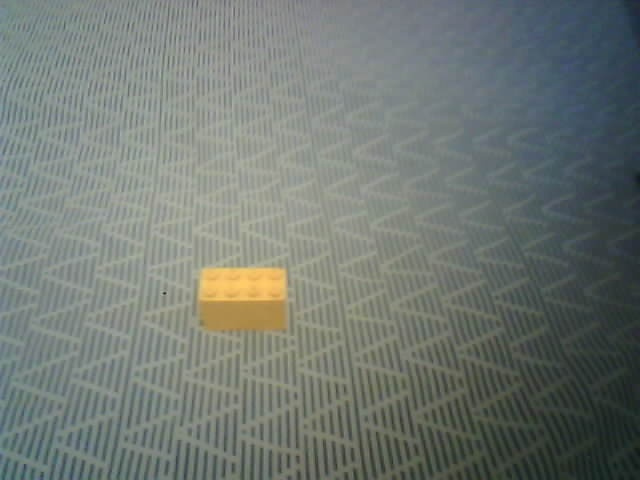lego: (196, 267, 289, 331)
